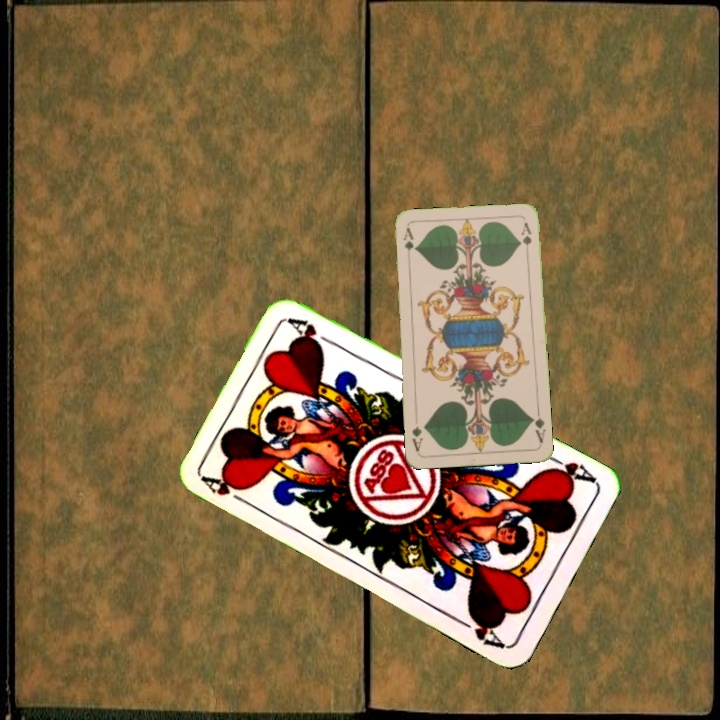GA: (527, 406, 548, 445), (399, 224, 416, 253)
HA: (542, 450, 598, 487), (200, 472, 254, 509)
